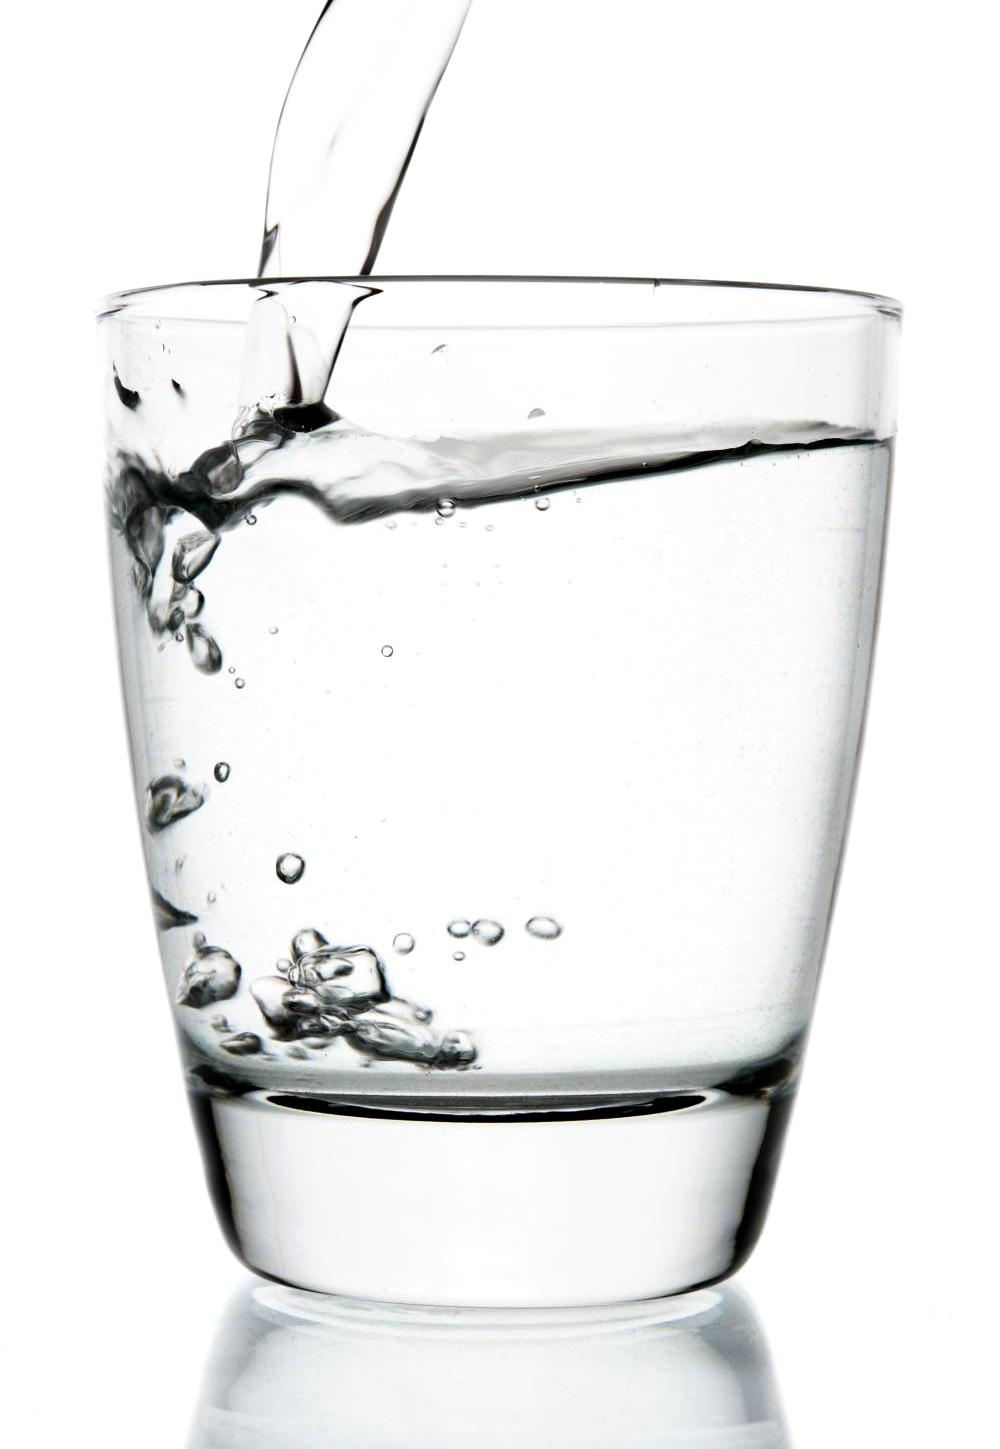glass of water: (83, 257, 934, 1375)
